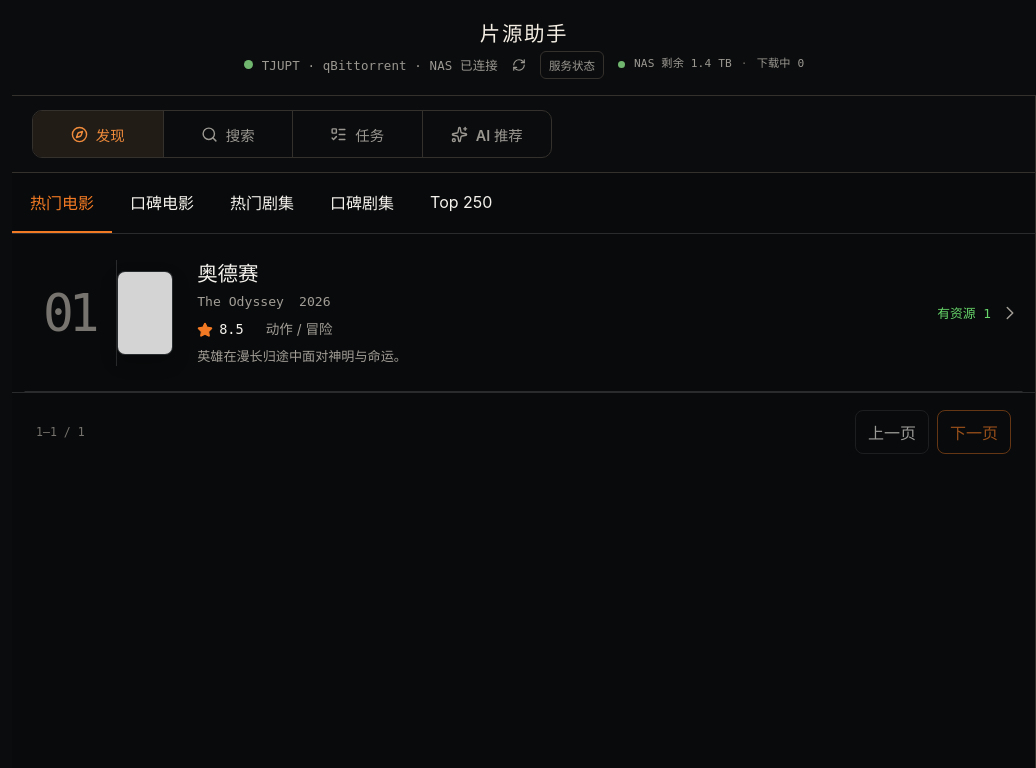
Test case: 片源助手客户端 › updates an open recommendation inspector without replacing an explicit refresh (true)
Click the tab "AI 推荐": (486, 134) [422,111,551,157]
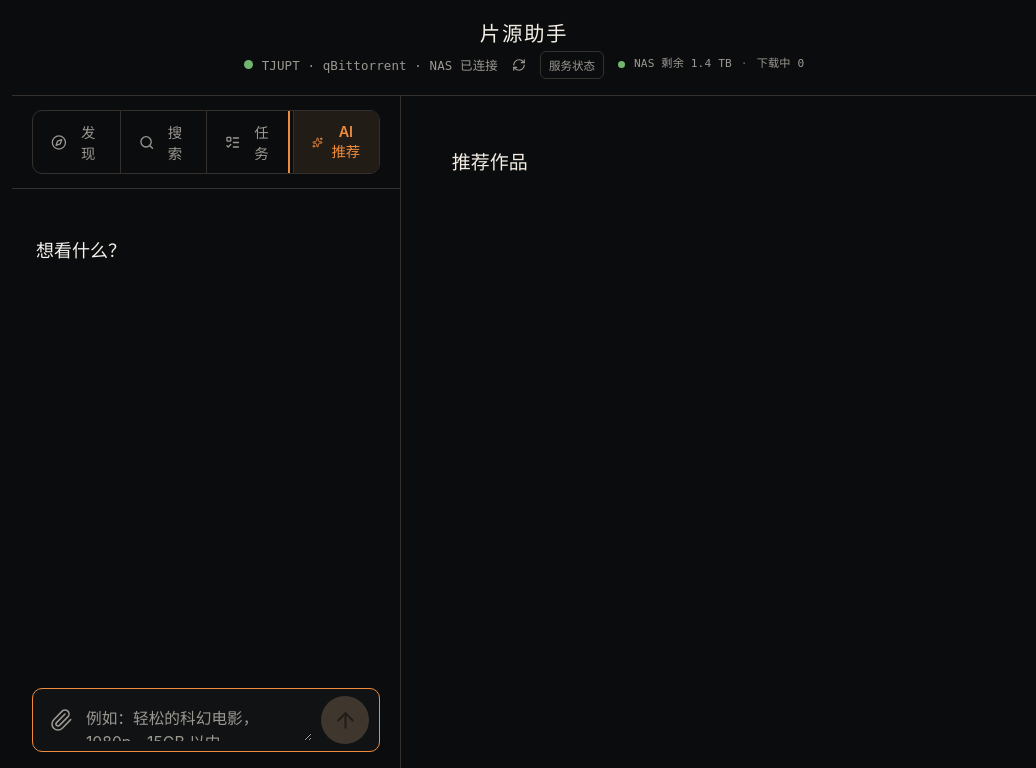
In the text box named "描述想看的类型和要求": (199, 720) [86,699,312,741], type "科幻电影"
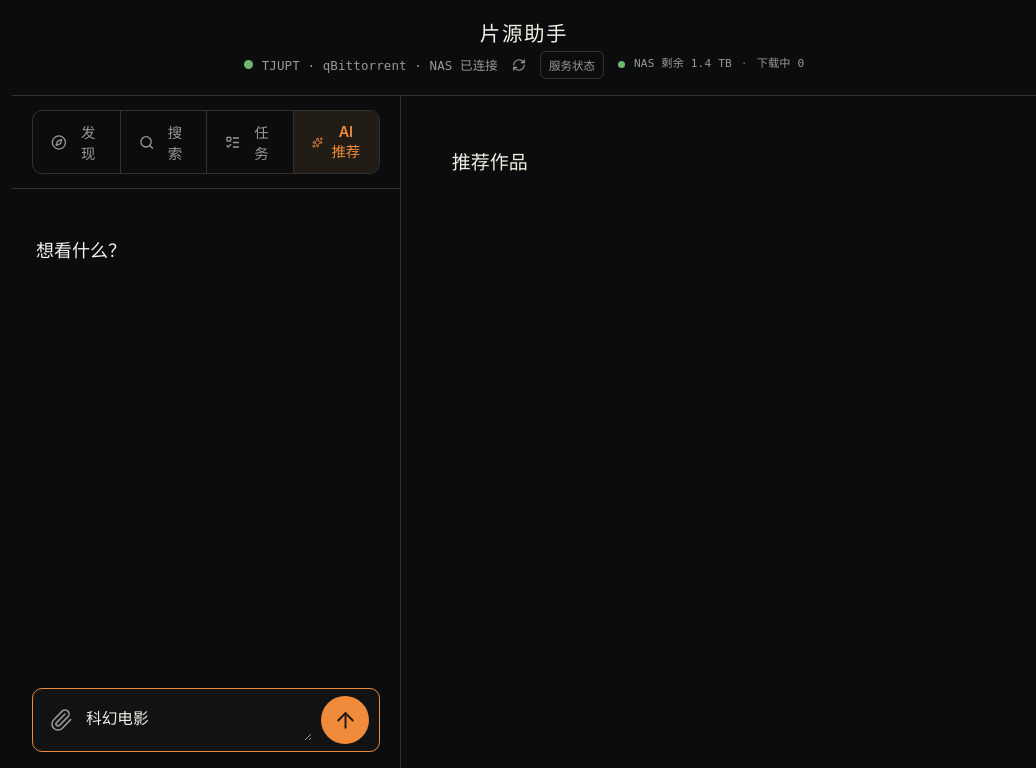
Click the button named "发送搜索": (345, 720) [321,696,369,744]
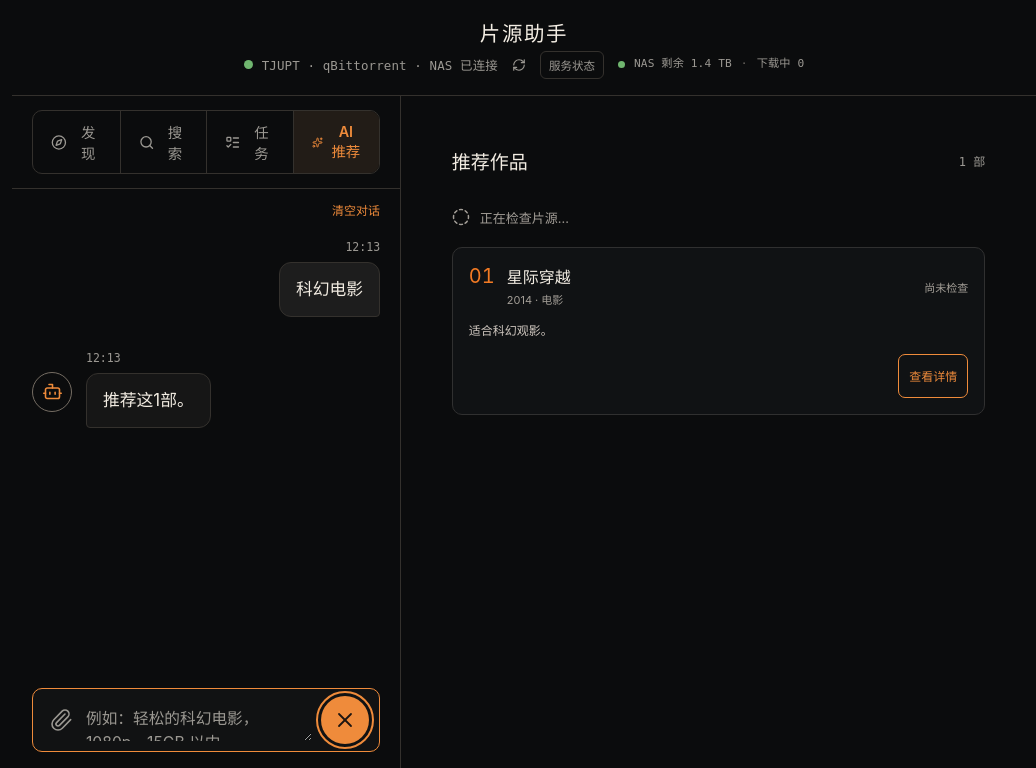
Click the button "查看详情": (933, 376) [898,354,968,398]
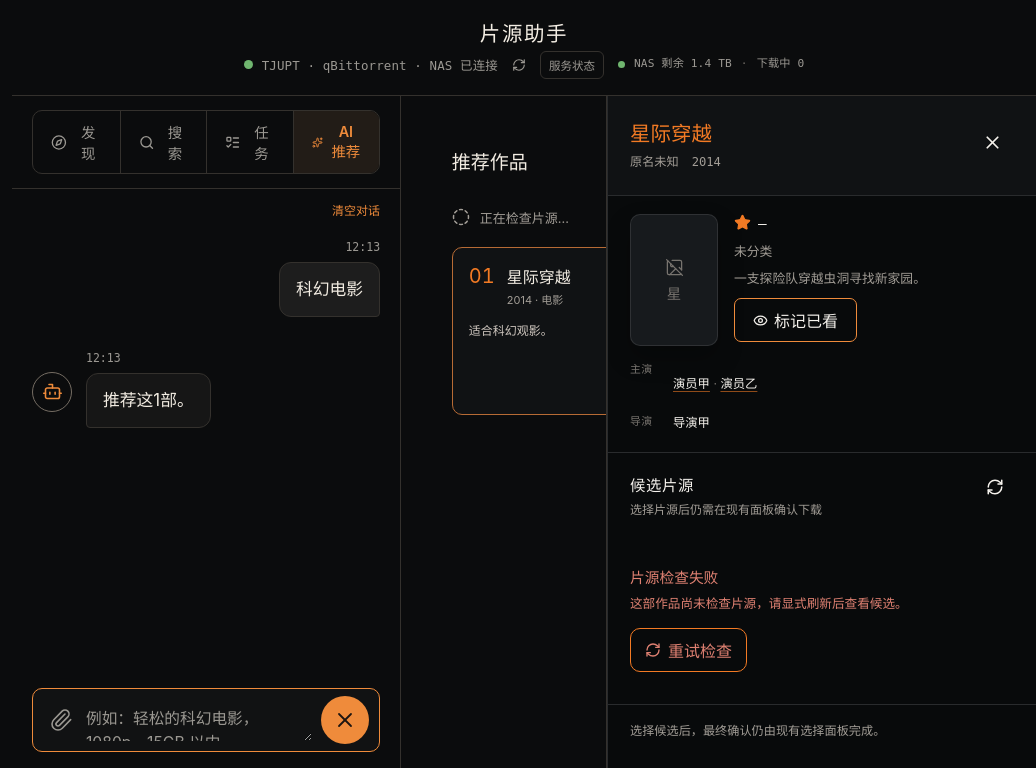
Expected: the text "这部作品尚未检查片源，请显式刷新后查看候选。" is shown, [630,594,908,613]
Click the button named "重新检查片源": (995, 488) [976,468,1014,506]
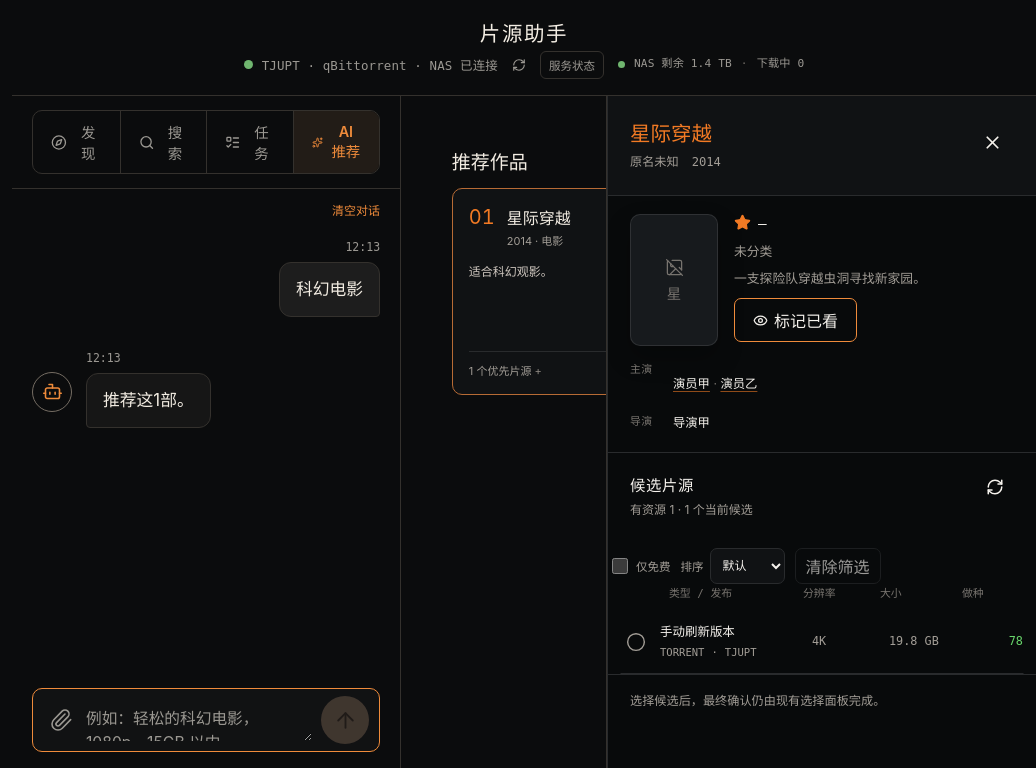
Expected: the text "手动刷新版本" is shown, [660,624,735,639]
